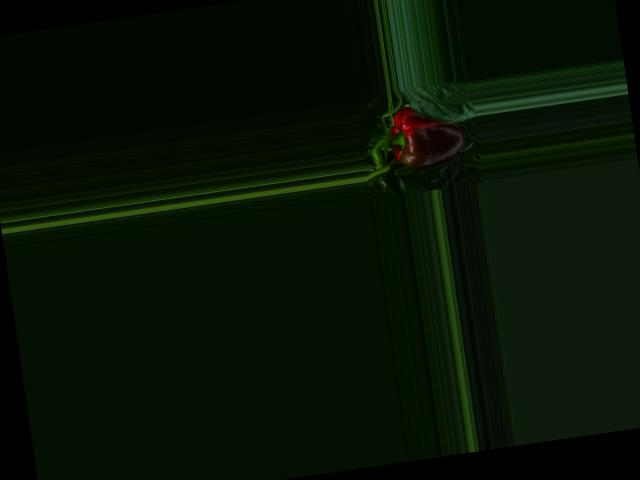bell_pepper: (377, 95, 474, 181)
